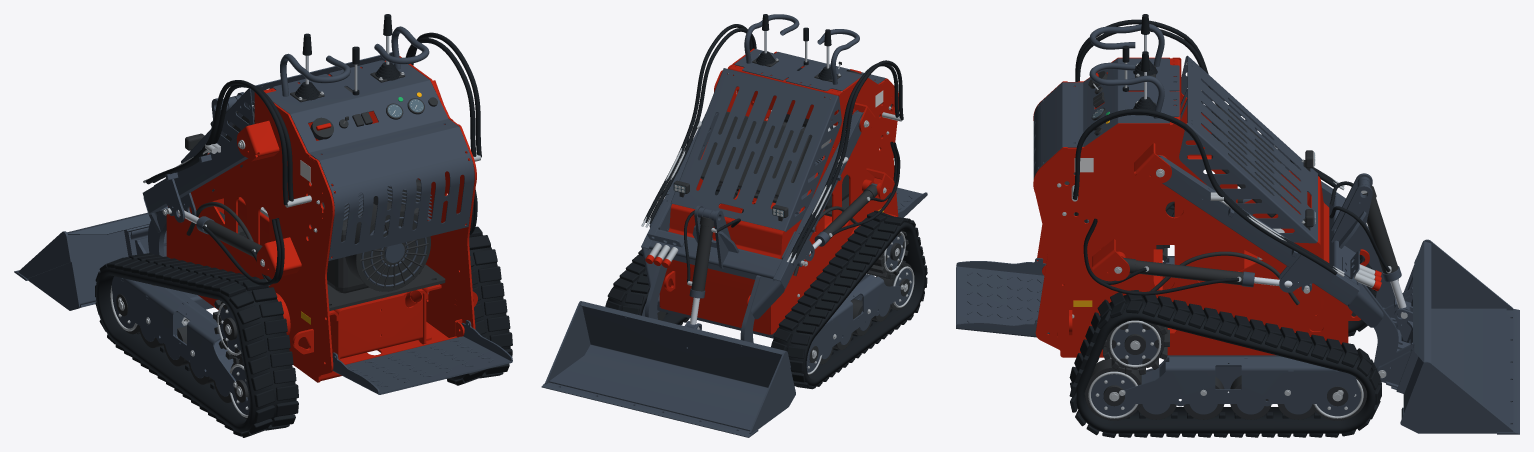
File: loader.glb
3 views of the same model, side by side, from view 1: azimuth 30°, elevation 25°; view 2: azimuth 150°, elevation 25°; view 3: azimuth 270°, elevation 25° (orthographic). The views are drawn at different scales.
Parts seen in each view (by area): view 1: battery, frame, trackL, arm, bucket, trackframe, engine, fueltank, controls, trackR, liftBarrel, hydtank (+1 smaller); view 2: bucket, battery, frame, arm, trackL, trackframe, engine, controls, trackR, liftBarrel, tiltBarrel; view 3: frame, battery, trackR, bucket, arm, trackframe, controls, liftBarrel, quickattach, tiltBarrel, engine, hydtank (+1 smaller).
Boxes of the visible parts, <box> form: battery: <box>181,52,512,394</box>; frame: <box>166,56,493,386</box>; trackL: <box>95,253,298,437</box>; arm: <box>142,32,481,266</box>; bucket: <box>14,212,150,310</box>; trackframe: <box>112,276,428,402</box>; engine: <box>219,86,431,293</box>; fueltank: <box>329,284,441,360</box>; controls: <box>280,14,437,140</box>; trackR: <box>447,226,512,385</box>; liftBarrel: <box>166,189,477,285</box>; hydtank: <box>224,197,269,245</box>; bucket: <box>541,301,795,437</box>; battery: <box>670,49,927,231</box>; frame: <box>659,48,912,334</box>; arm: <box>641,24,903,342</box>; trackL: <box>771,210,927,389</box>; trackframe: <box>642,274,909,361</box>; engine: <box>700,111,848,209</box>; controls: <box>744,14,862,84</box>; trackR: <box>605,185,743,325</box>; liftBarrel: <box>666,141,900,266</box>; tiltBarrel: <box>687,208,716,329</box>; frame: <box>967,57,1369,357</box>; battery: <box>956,55,1317,337</box>; trackR: <box>1069,290,1381,437</box>; bucket: <box>1379,239,1519,434</box>; arm: <box>1071,19,1398,378</box>; trackframe: <box>1102,256,1357,406</box>; controls: <box>1088,14,1164,135</box>; liftBarrel: <box>1083,199,1311,295</box>; quickattach: <box>1377,287,1413,387</box>; tiltBarrel: <box>1357,179,1410,318</box>; engine: <box>1064,104,1281,223</box>; hydtank: <box>1244,228,1323,331</box>.
Size of the model in its own units: 1.12 by 1.45 by 2.15.
